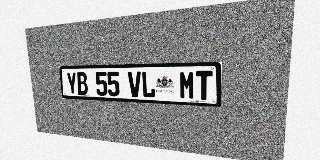5: (95, 72, 108, 96), (107, 72, 120, 96)
B: (76, 72, 88, 95)
L: (141, 71, 156, 98)
M: (179, 71, 195, 100)
T: (196, 71, 213, 100)
V: (128, 71, 142, 97)
Y: (66, 72, 78, 95)
